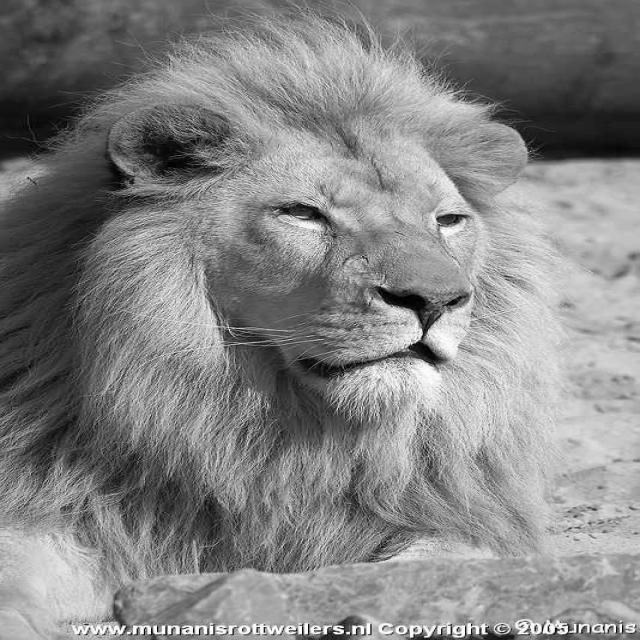Lion: (36, 7, 636, 640)
